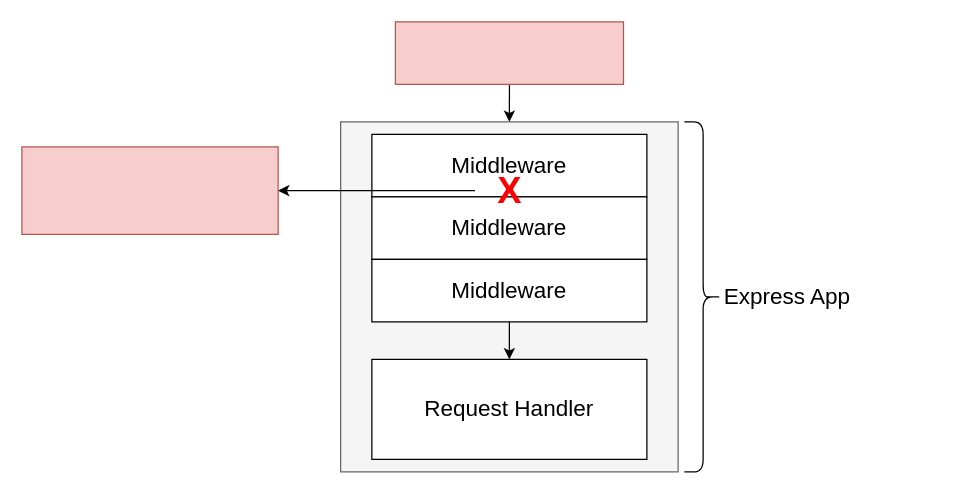
This 956x494 diagram has some shape labels left out. The shapes that lost their labels are listed below. From the top down, each one's centre as x and y in pixels, then its label:
[509,52]: Request that will result in an error
[149,190]: Correctly structured error response
